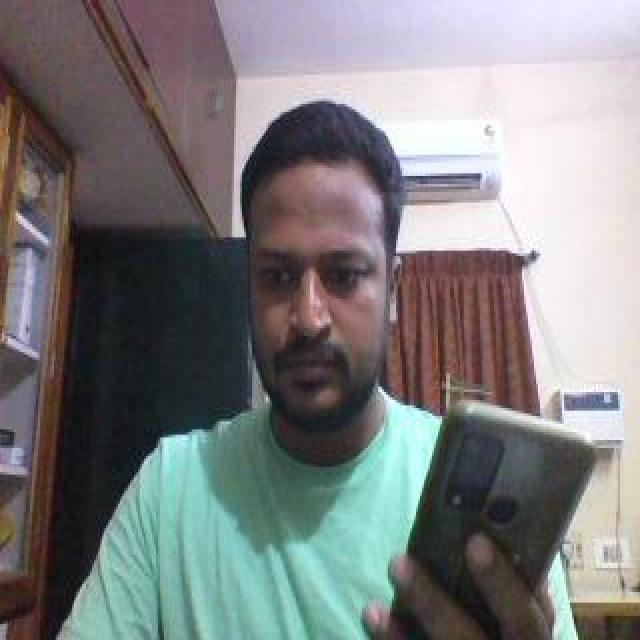phone: (384, 394, 598, 637)
